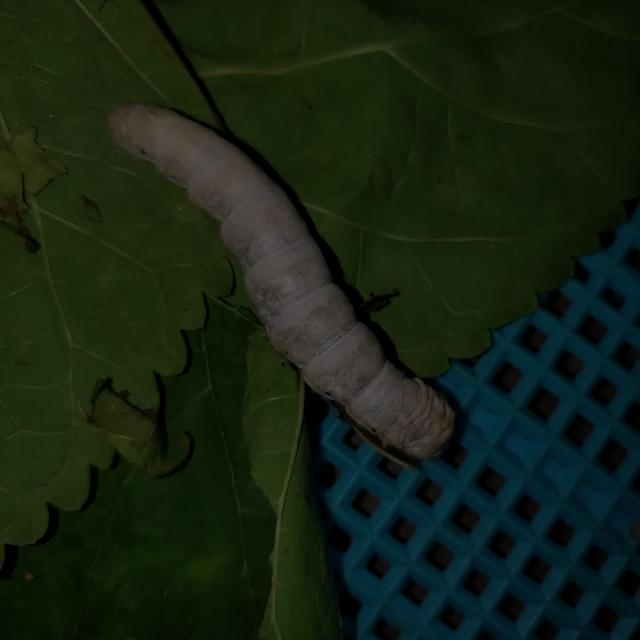Grasserie: (91, 80, 498, 486)
